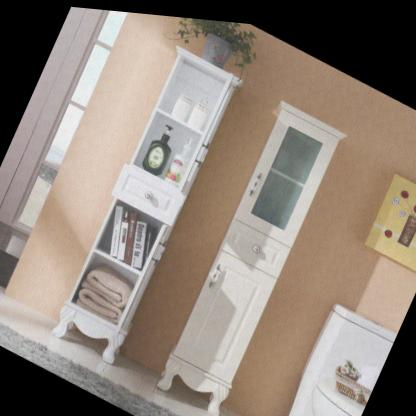Cupboard: (51, 43, 241, 362), (156, 96, 346, 413)
